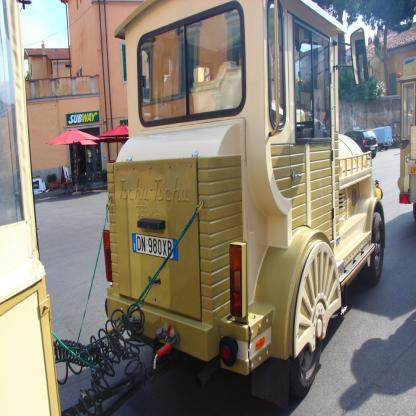Car: (343, 130, 378, 158)
Truck: (396, 60, 415, 220)
